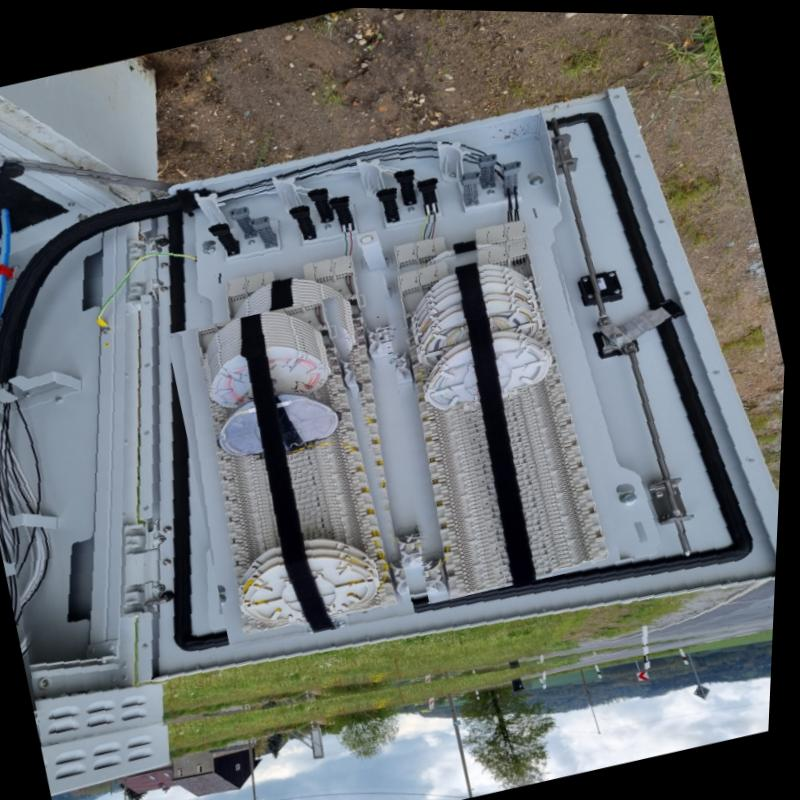NT-Gehause: (0, 58, 783, 754)
Spleiskassetten: (386, 248, 625, 600), (200, 305, 414, 646)
